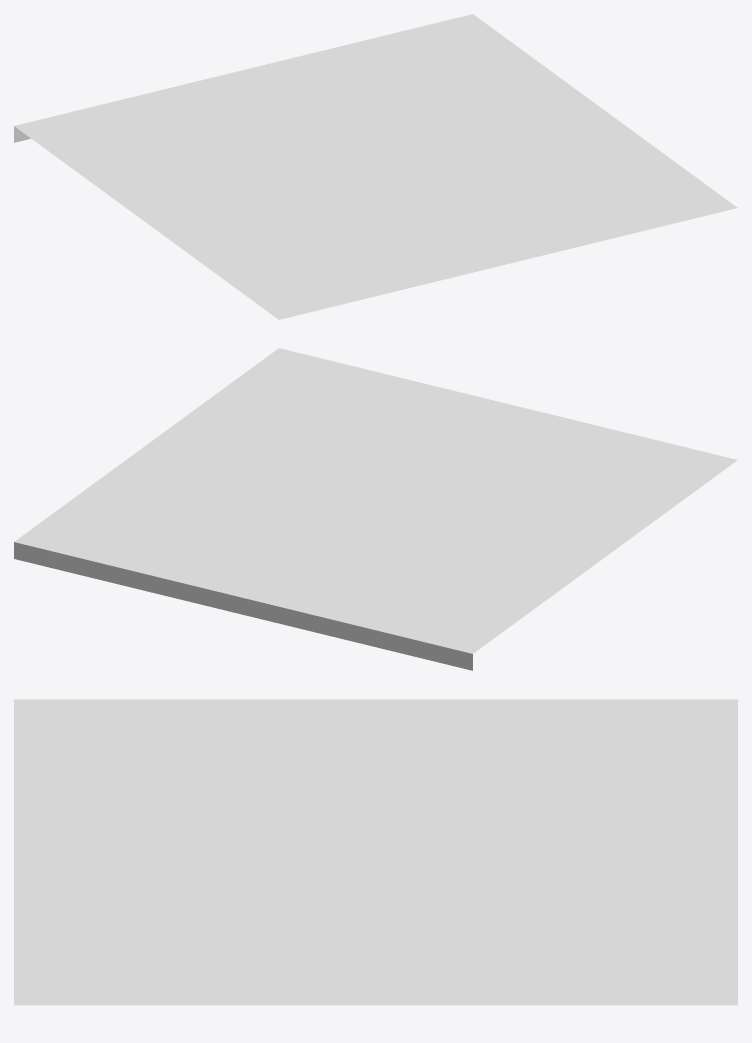
Rendered from pavement pavement.fbx.
The picture shows the model from 3 angles, top to bottom: view 1: azimuth 30°, elevation 25°; view 2: azimuth 150°, elevation 25°; view 3: azimuth 270°, elevation 25°; orthographic projection. The views are drawn at different scales.
Visible parts, largest first — view 1: pavement_pavement; view 2: pavement_pavement; view 3: pavement_pavement.
Part boxes in pixels (box(x1,y1,x2,y2)): pavement_pavement: box(14, 14, 737, 319); pavement_pavement: box(14, 348, 737, 670); pavement_pavement: box(14, 699, 737, 1005).
Size of the model in its own units: 1000 by 35.23 by 1000.
